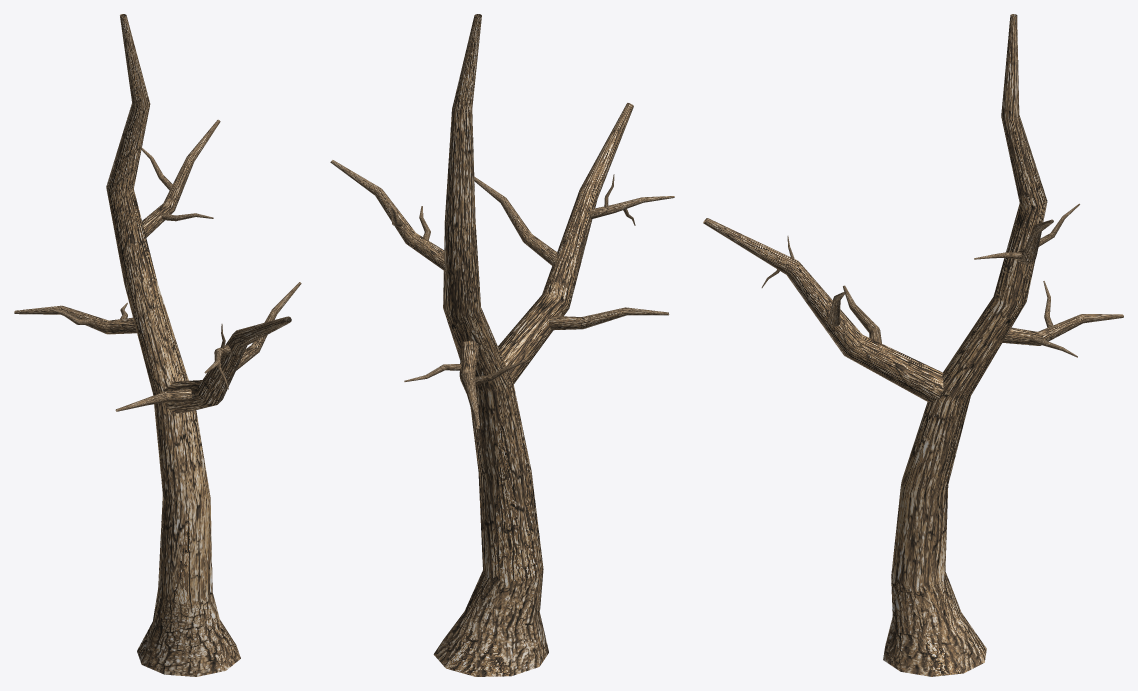
File: Árvore 1 seca.fbx
3 views of the same model, side by side, from view 1: azimuth 30°, elevation 25°; view 2: azimuth 150°, elevation 25°; view 3: azimuth 270°, elevation 25° (orthographic). The views are drawn at different scales.
Visible parts, largest first — view 1: Árvore 1 seca; view 2: Árvore 1 seca; view 3: Árvore 1 seca.
Boxes of the visible parts, <box> form: Árvore 1 seca: <box>14,14,301,676</box>; Árvore 1 seca: <box>330,14,674,676</box>; Árvore 1 seca: <box>703,14,1123,676</box>.
Bounding box in the file's own units: 3.28 × 9.36 × 5.7.
